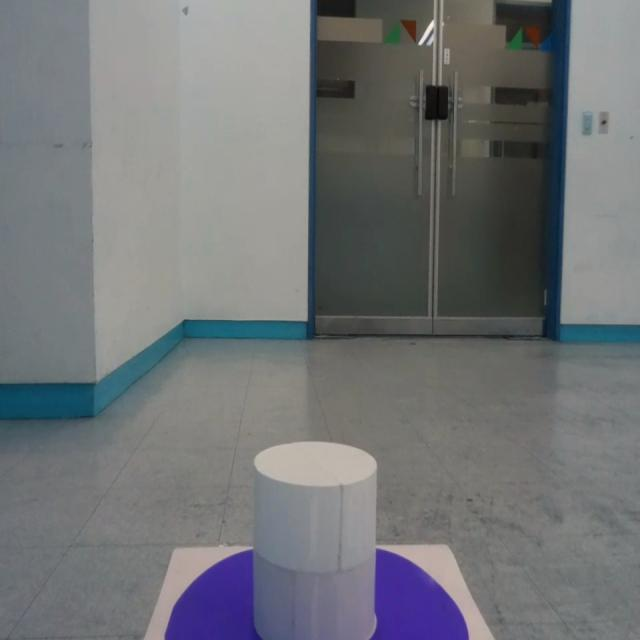cylinder: (252, 441, 379, 640)
